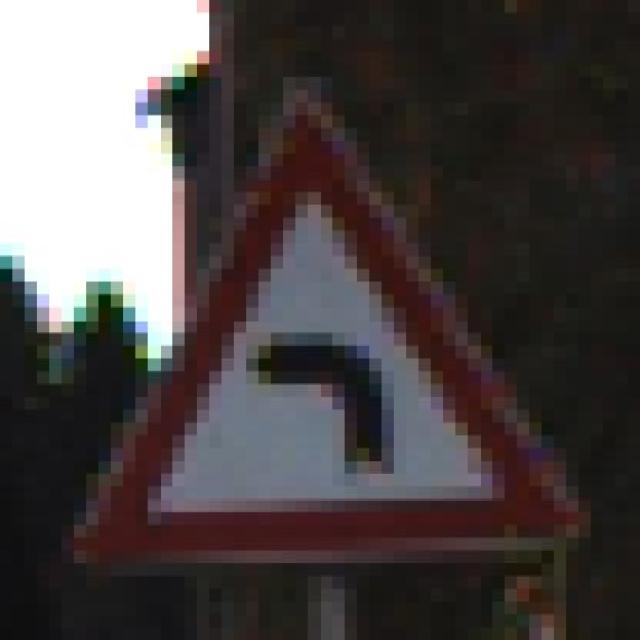Dangerous Left Curve Ahead: (37, 90, 603, 576)
